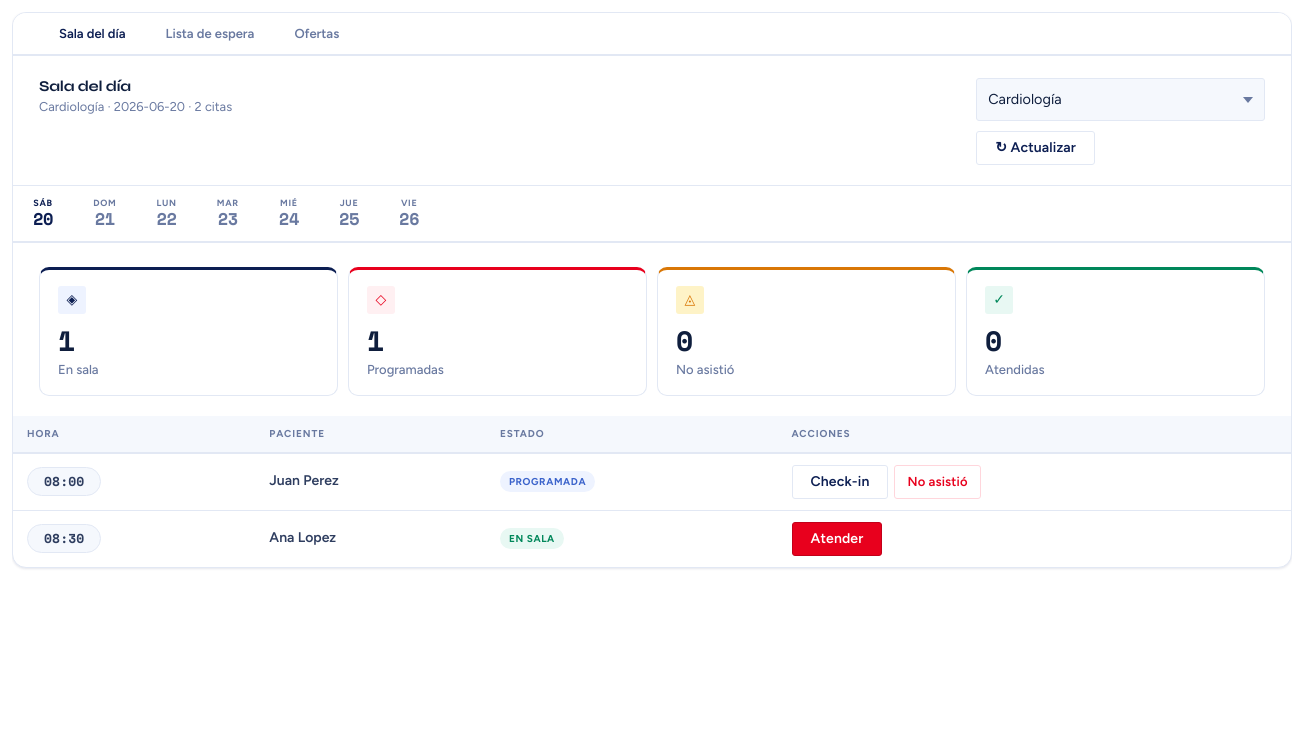
Test: AdminPage › cambia a la pestaña de ofertas y carga las ofertas
Expected: the text "Juan Perez" is shown, [255,452,486,510]
Click the button "Ofertas".
click(317, 34)  # box [274,13,359,54]
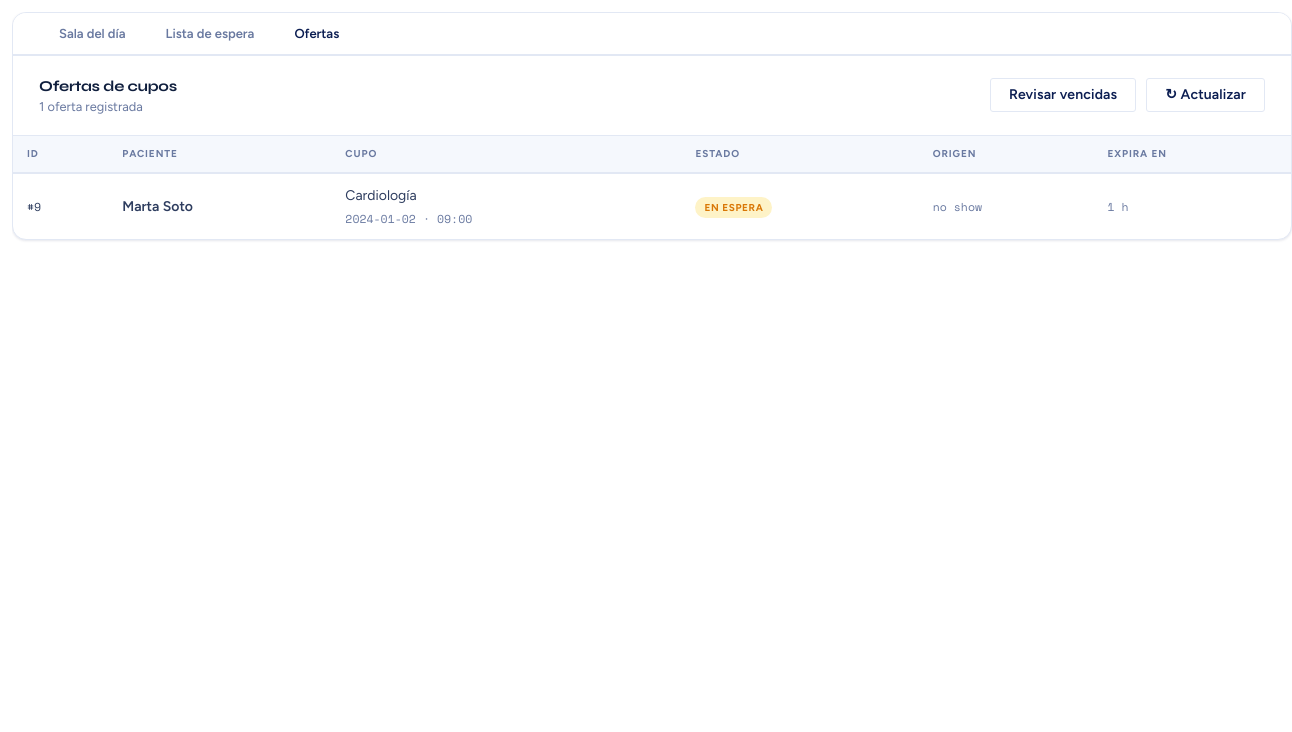
Result: the text "Marta Soto" is shown at [108,173,331,239]
